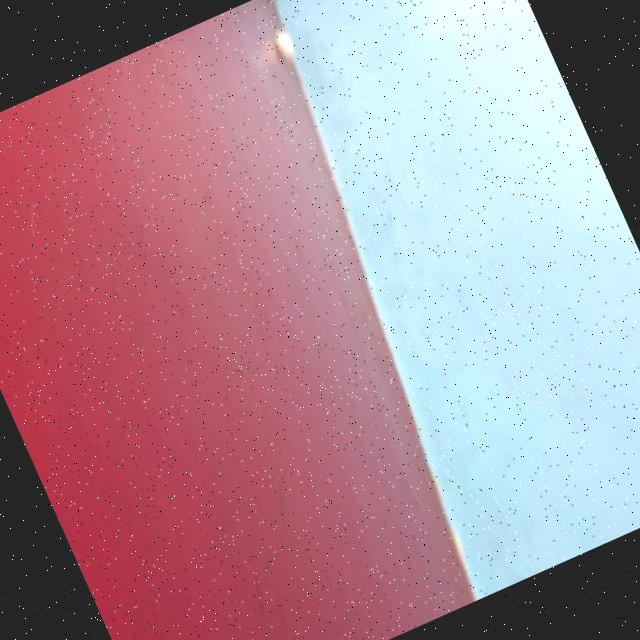ping-pong-ball: (266, 14, 312, 70)
